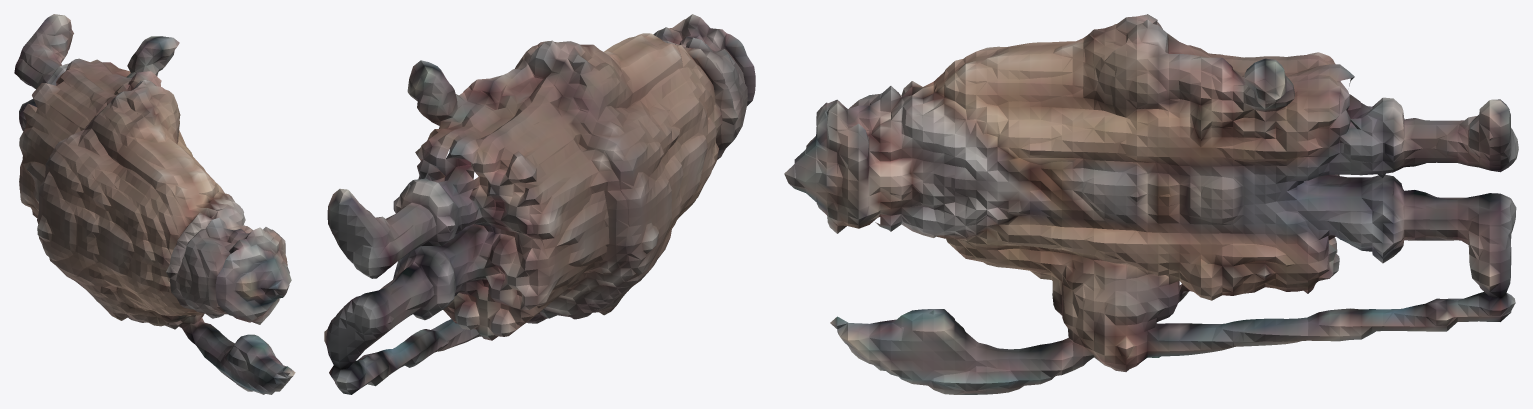
The model's file is prehist_commoner_m_0.glb.
3 renders of one model, left to right at view 1: azimuth 30°, elevation 25°; view 2: azimuth 150°, elevation 25°; view 3: azimuth 270°, elevation 25°, orthographic. The views are drawn at different scales.
Parts seen in each view (by area): view 1: world; view 2: world; view 3: world.
Part boxes in pixels (x1,y1,x2,y2): world: (14, 14, 295, 394); world: (324, 14, 755, 394); world: (784, 14, 1518, 394).
Size of the model in its own units: 0.3379 by 0.4992 by 0.9411.
